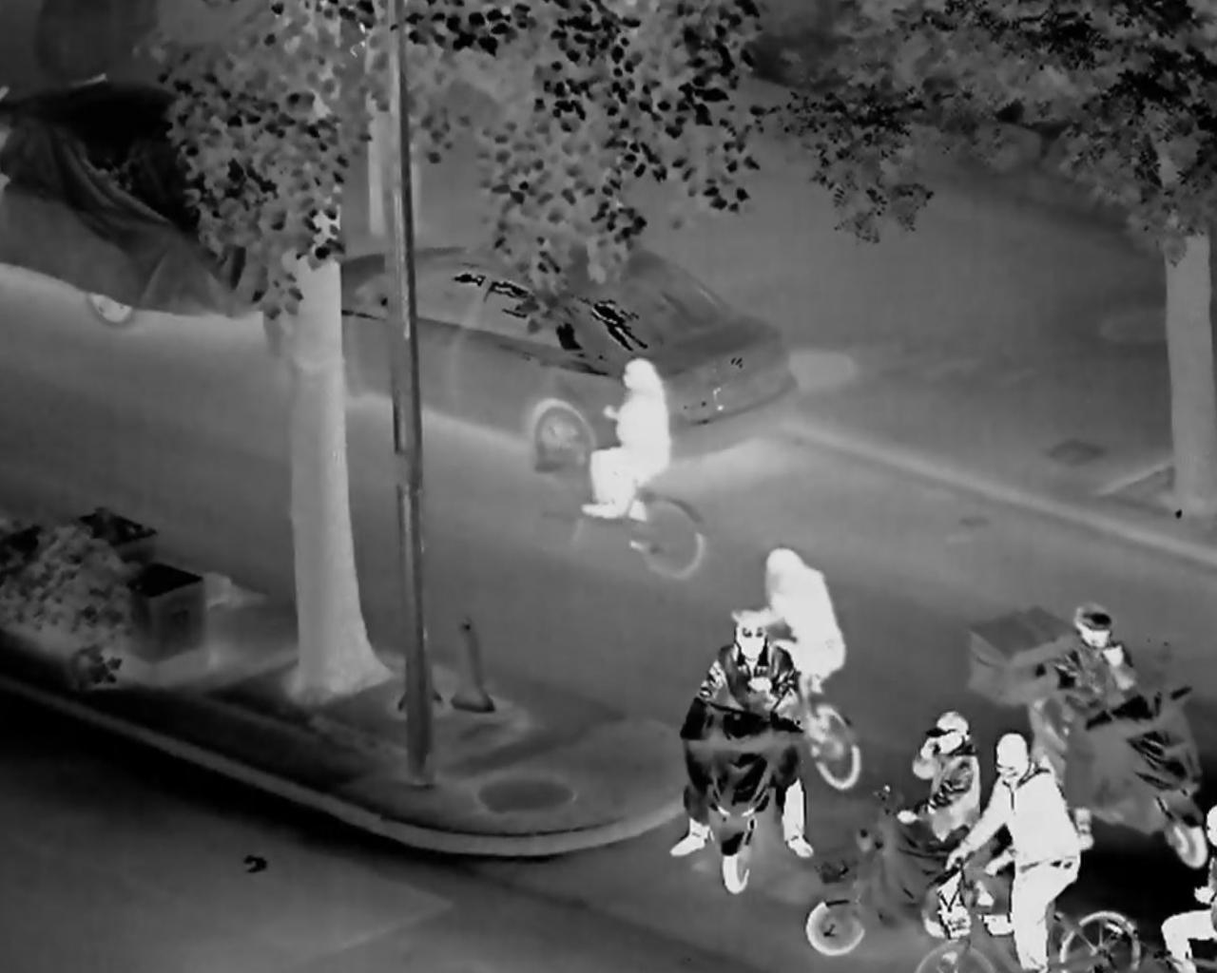person: (668, 618, 837, 888), (966, 735, 1084, 973), (890, 696, 990, 946), (561, 346, 686, 545), (750, 507, 854, 730), (1057, 601, 1155, 768)
